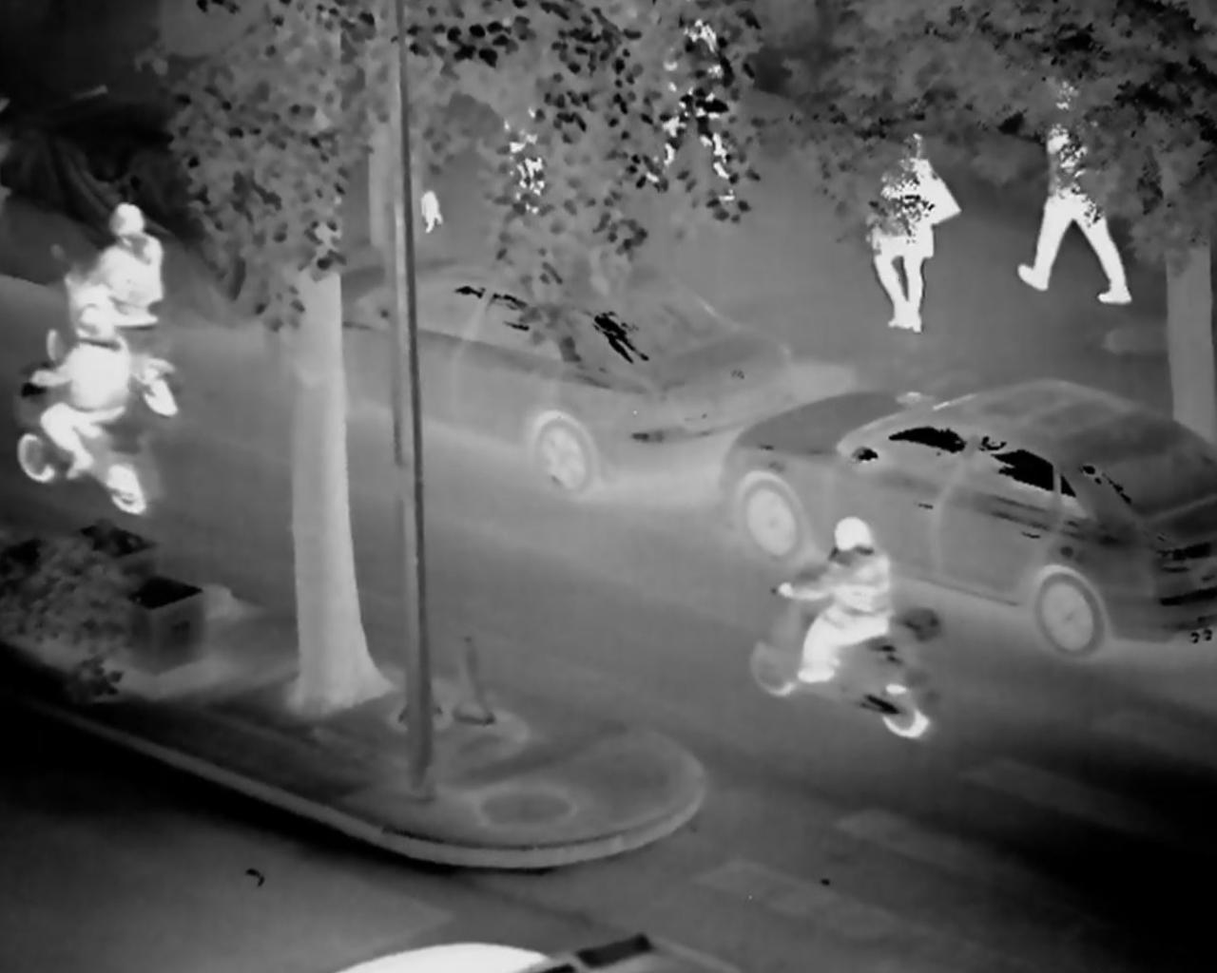person: (999, 87, 1149, 323), (13, 303, 164, 514), (763, 517, 907, 699), (862, 113, 951, 341), (64, 198, 174, 363)
